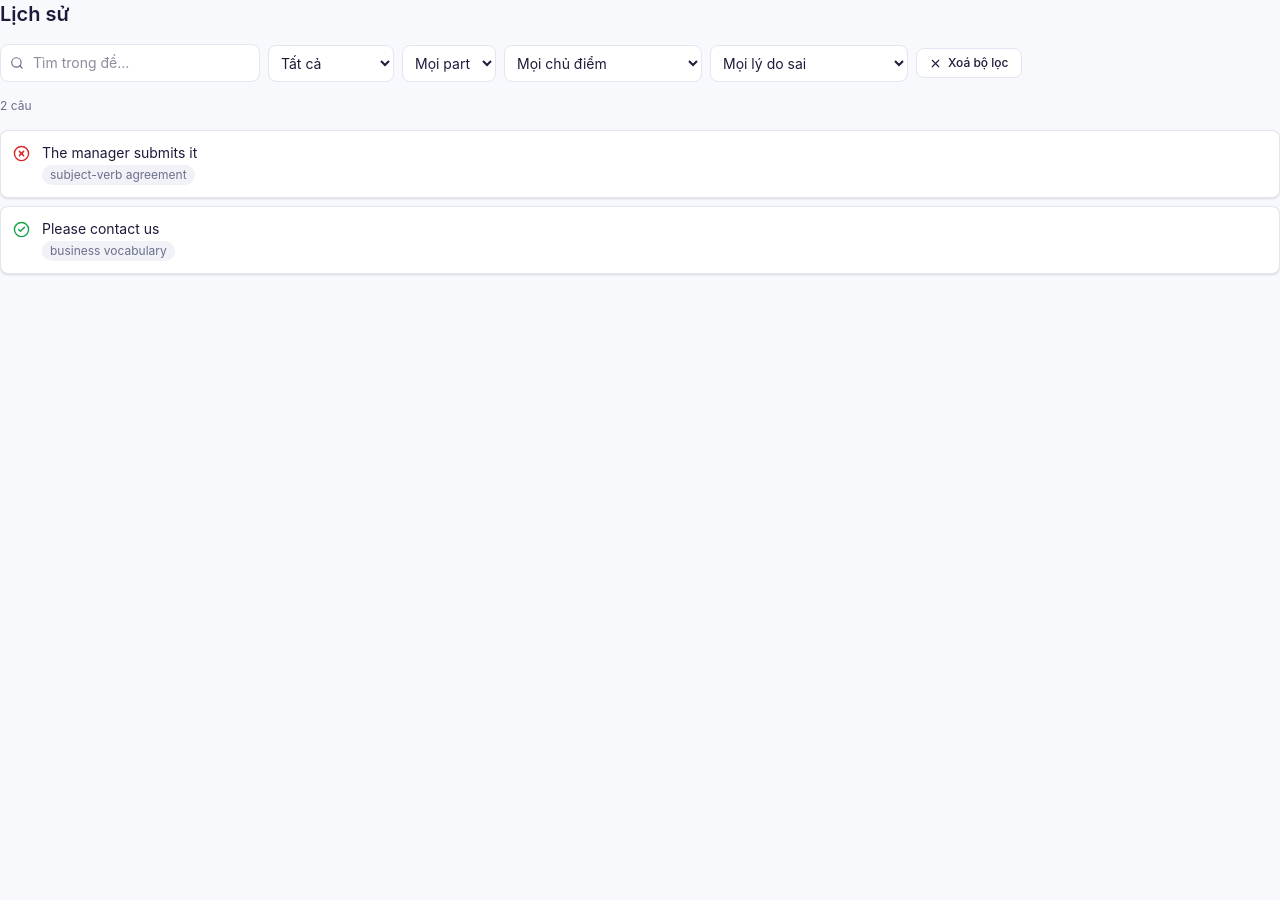
Test case: History view › opens the detail view showing the explanation and the recorded answer
The image size is (1280, 900).
Click the text "The manager submits it" at point(120, 152), box left=42, top=144, right=197, bottom=161
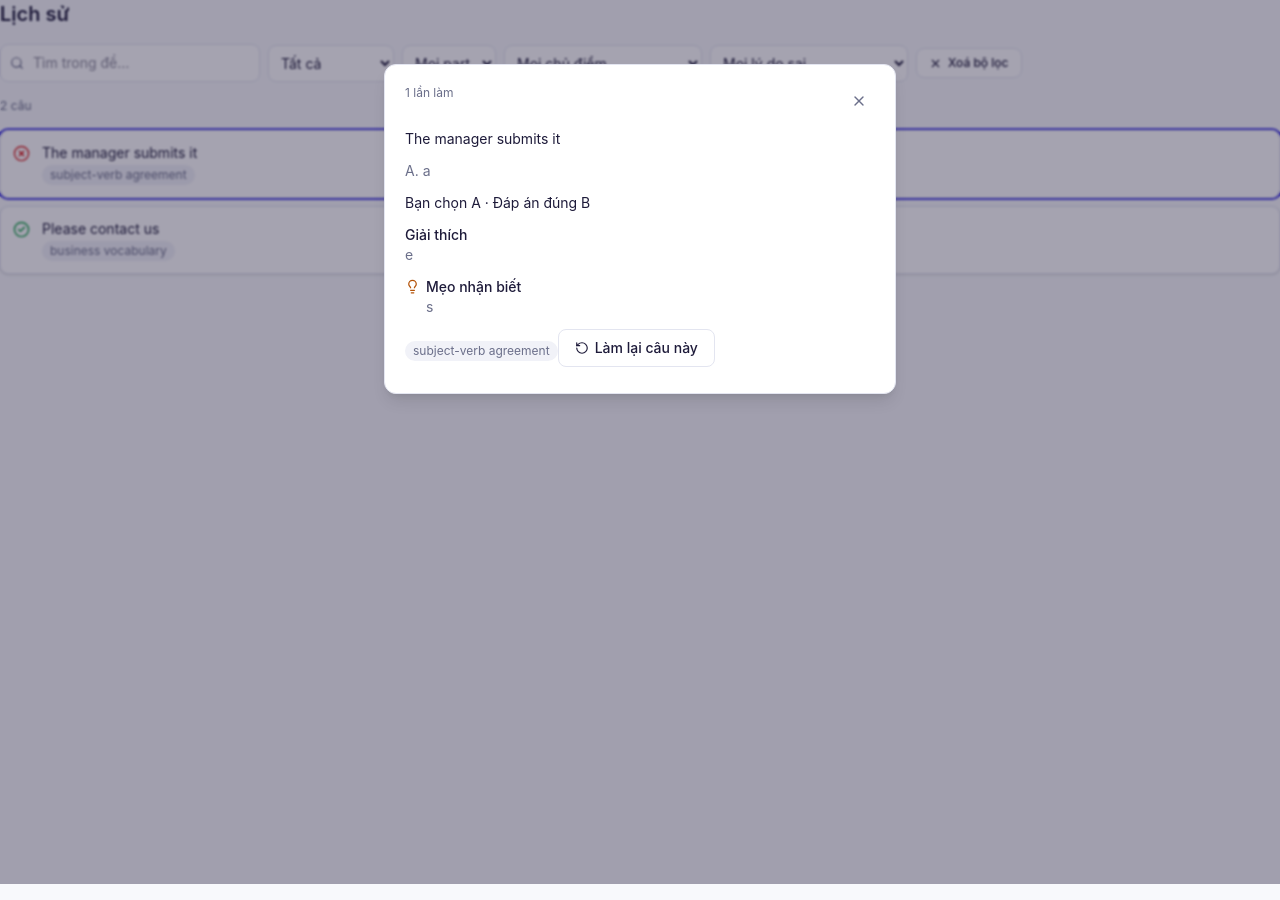
Expected: the text "e" is shown, left=405, top=246, right=413, bottom=263
